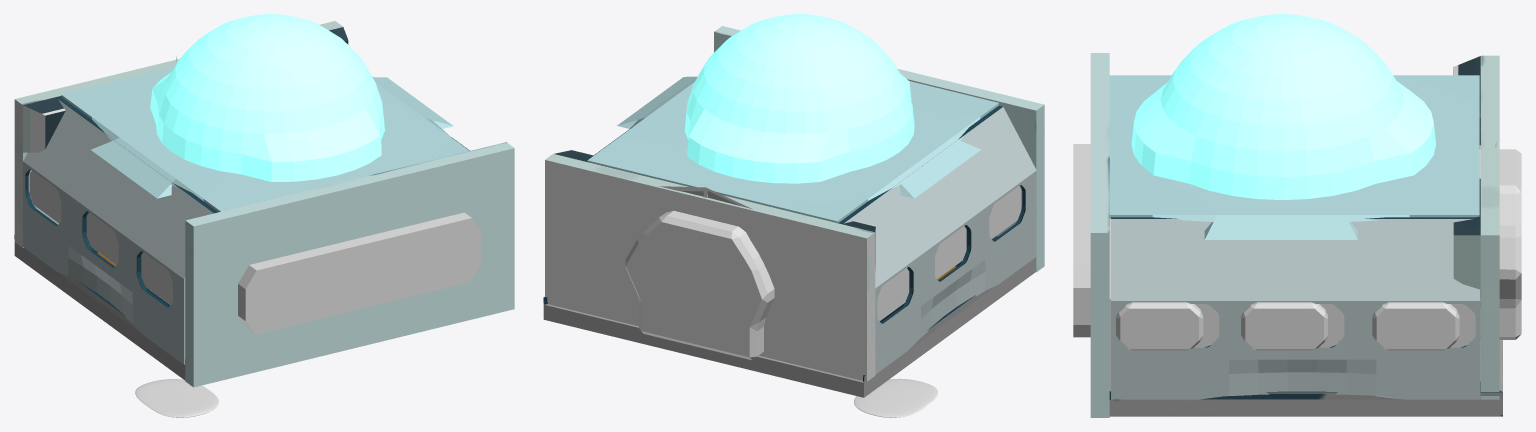
Rendered from Nave-transformed.glb.
3 views of the same model, side by side, from view 1: azimuth 30°, elevation 25°; view 2: azimuth 150°, elevation 25°; view 3: azimuth 270°, elevation 25° (orthographic). The views are drawn at different scales.
Visible parts, largest first — view 1: Cube.018, Sphere, Cube.015, Cube.010, Cube, Cube.009, Cube.017, Cube.014; view 2: Cube.015, Sphere, Cube.010, Cube, Cube.017, Cube.018, Cube.009, Cube.014; view 3: Cube.010, Sphere, Cube, Cube.015, Cube.009, Cube.017, Cube.018.
Boxes of the visible parts, x1,y1,x2,y2 form: Cube.018: (185,142,514,387); Sphere: (150,14,384,181); Cube.015: (14,57,480,334); Cube.010: (23,98,469,364); Cube: (61,67,469,212); Cube.009: (14,21,348,247); Cube.017: (14,235,185,380); Cube.014: (135,379,218,417); Cube.015: (545,160,1021,381); Sphere: (684,14,914,183); Cube.010: (588,105,1036,374); Cube: (587,76,998,222); Cube.017: (543,257,1035,397); Cube.018: (714,26,1044,272); Cube.009: (545,150,875,378); Cube.014: (854,378,937,417); Cube.010: (1111,145,1480,399); Sphere: (1131,14,1435,200); Cube: (1109,75,1479,239); Cube.015: (1073,65,1521,391); Cube.009: (1453,55,1499,399); Cube.017: (1109,340,1502,416); Cube.018: (1090,53,1109,417).
Size of the model in its own units: 45.88 by 46.91 by 47.25.
9 materials, 9 textured.
